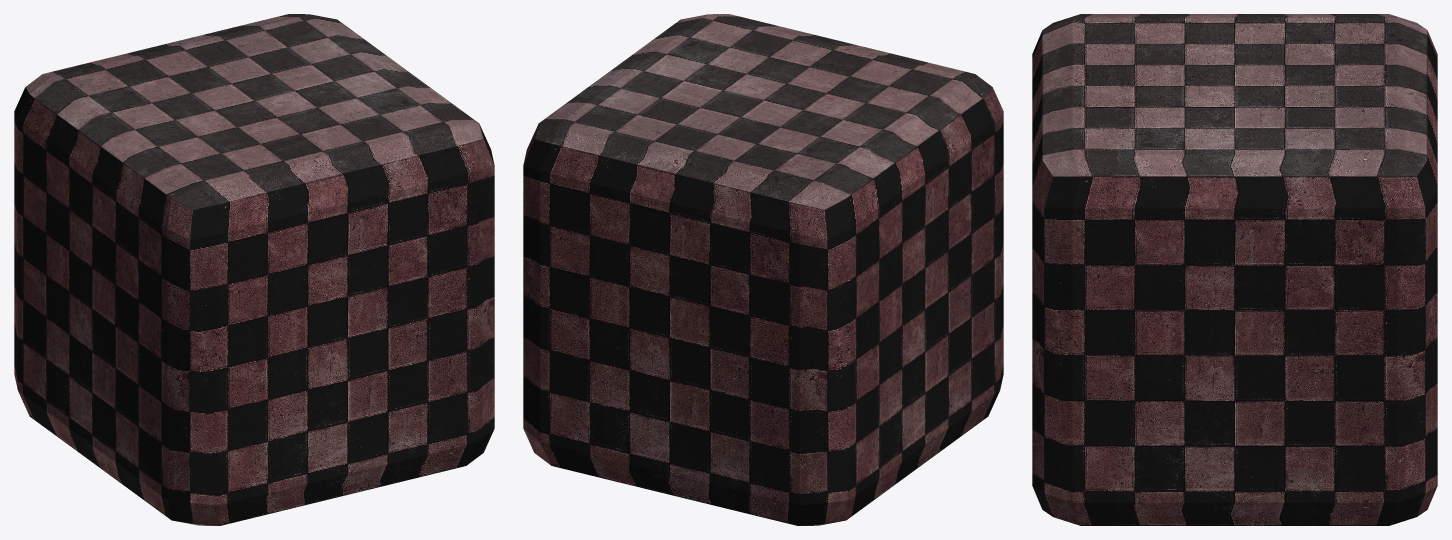
The model's file is CubeDark.fbx.
The picture shows the model from 3 angles, left to right: view 1: azimuth 30°, elevation 25°; view 2: azimuth 150°, elevation 25°; view 3: azimuth 270°, elevation 25°; orthographic projection. The views are drawn at different scales.
Visible parts, largest first — view 1: Cube; view 2: Cube; view 3: Cube.
Part boxes in pixels (x1,y1,x2,y2): Cube: (14,14,494,525); Cube: (523,14,1003,525); Cube: (1032,14,1437,525).
Size of the model in its own units: 200 by 200 by 200.
